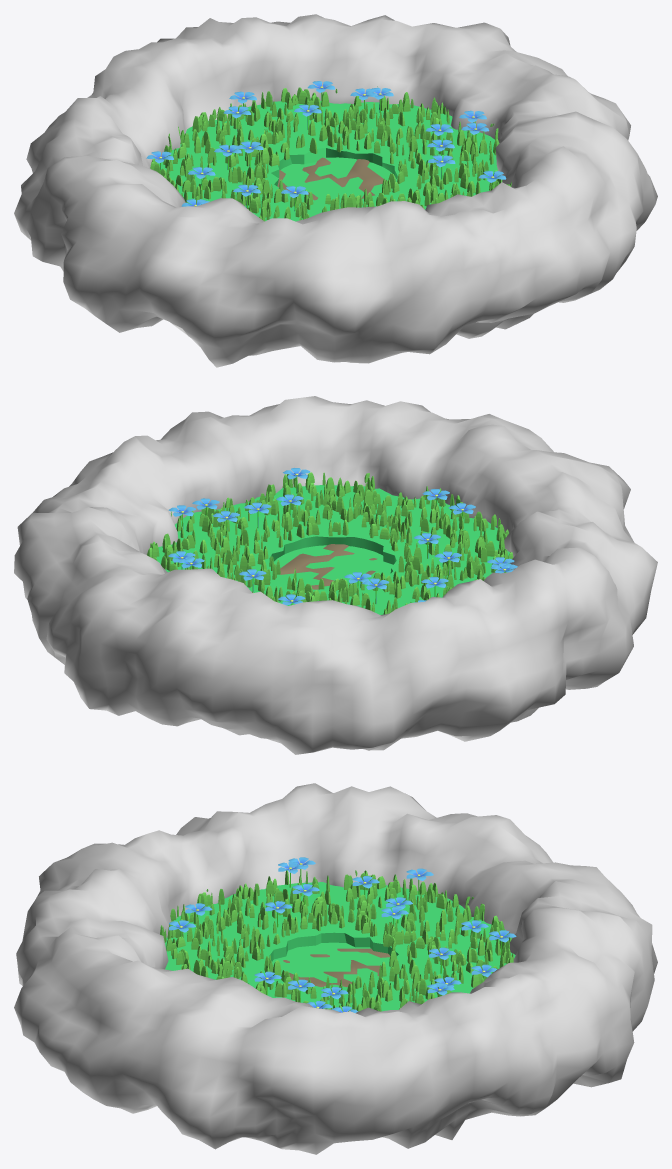
The model's file is Level0_Plantform.fbx.
3 views of the same model, one above another, from view 1: azimuth 30°, elevation 25°; view 2: azimuth 150°, elevation 25°; view 3: azimuth 270°, elevation 25° (orthographic). The views are drawn at different scales.
Parts seen in each view (by area): view 1: Torus.002, Cylinder.004, Cylinder.002, Dirt; view 2: Torus.002, Cylinder.004, Cylinder.002, Dirt; view 3: Torus.002, Cylinder.004, Cylinder.002, Dirt.
Boxes of the visible parts, x1=… form: Torus.002: x1=14, y1=14, x2=657, y2=367; Cylinder.004: x1=146, y1=81, x2=511, y2=221; Cylinder.002: x1=157, y1=98, x2=499, y2=221; Dirt: x1=277, y1=157, x2=385, y2=200; Torus.002: x1=14, y1=396, x2=657, y2=754; Cylinder.004: x1=147, y1=468, x2=517, y2=614; Cylinder.002: x1=156, y1=485, x2=510, y2=614; Dirt: x1=280, y1=544, x2=377, y2=589; Torus.002: x1=14, y1=783, x2=657, y2=1154; Cylinder.004: x1=160, y1=857, x2=516, y2=1012; Cylinder.002: x1=165, y1=882, x2=515, y2=1011; Dirt: x1=283, y1=948, x2=390, y2=987.
Bounding box in the file's own units: 3392 × 912 × 3352.
